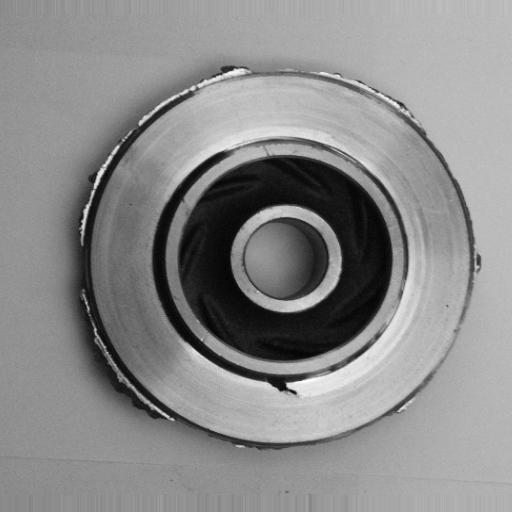casting_with_burr: (70, 61, 483, 454)
crack: (257, 370, 308, 403)
scratch: (215, 130, 281, 161)
